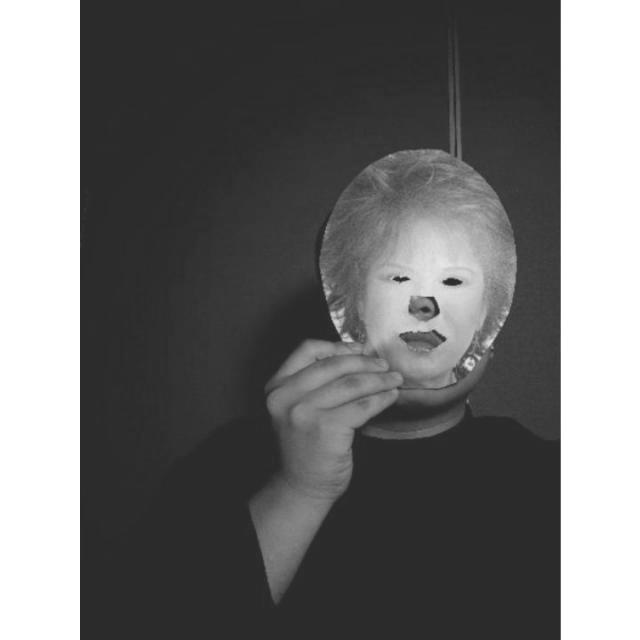fake: (314, 146, 518, 382)
